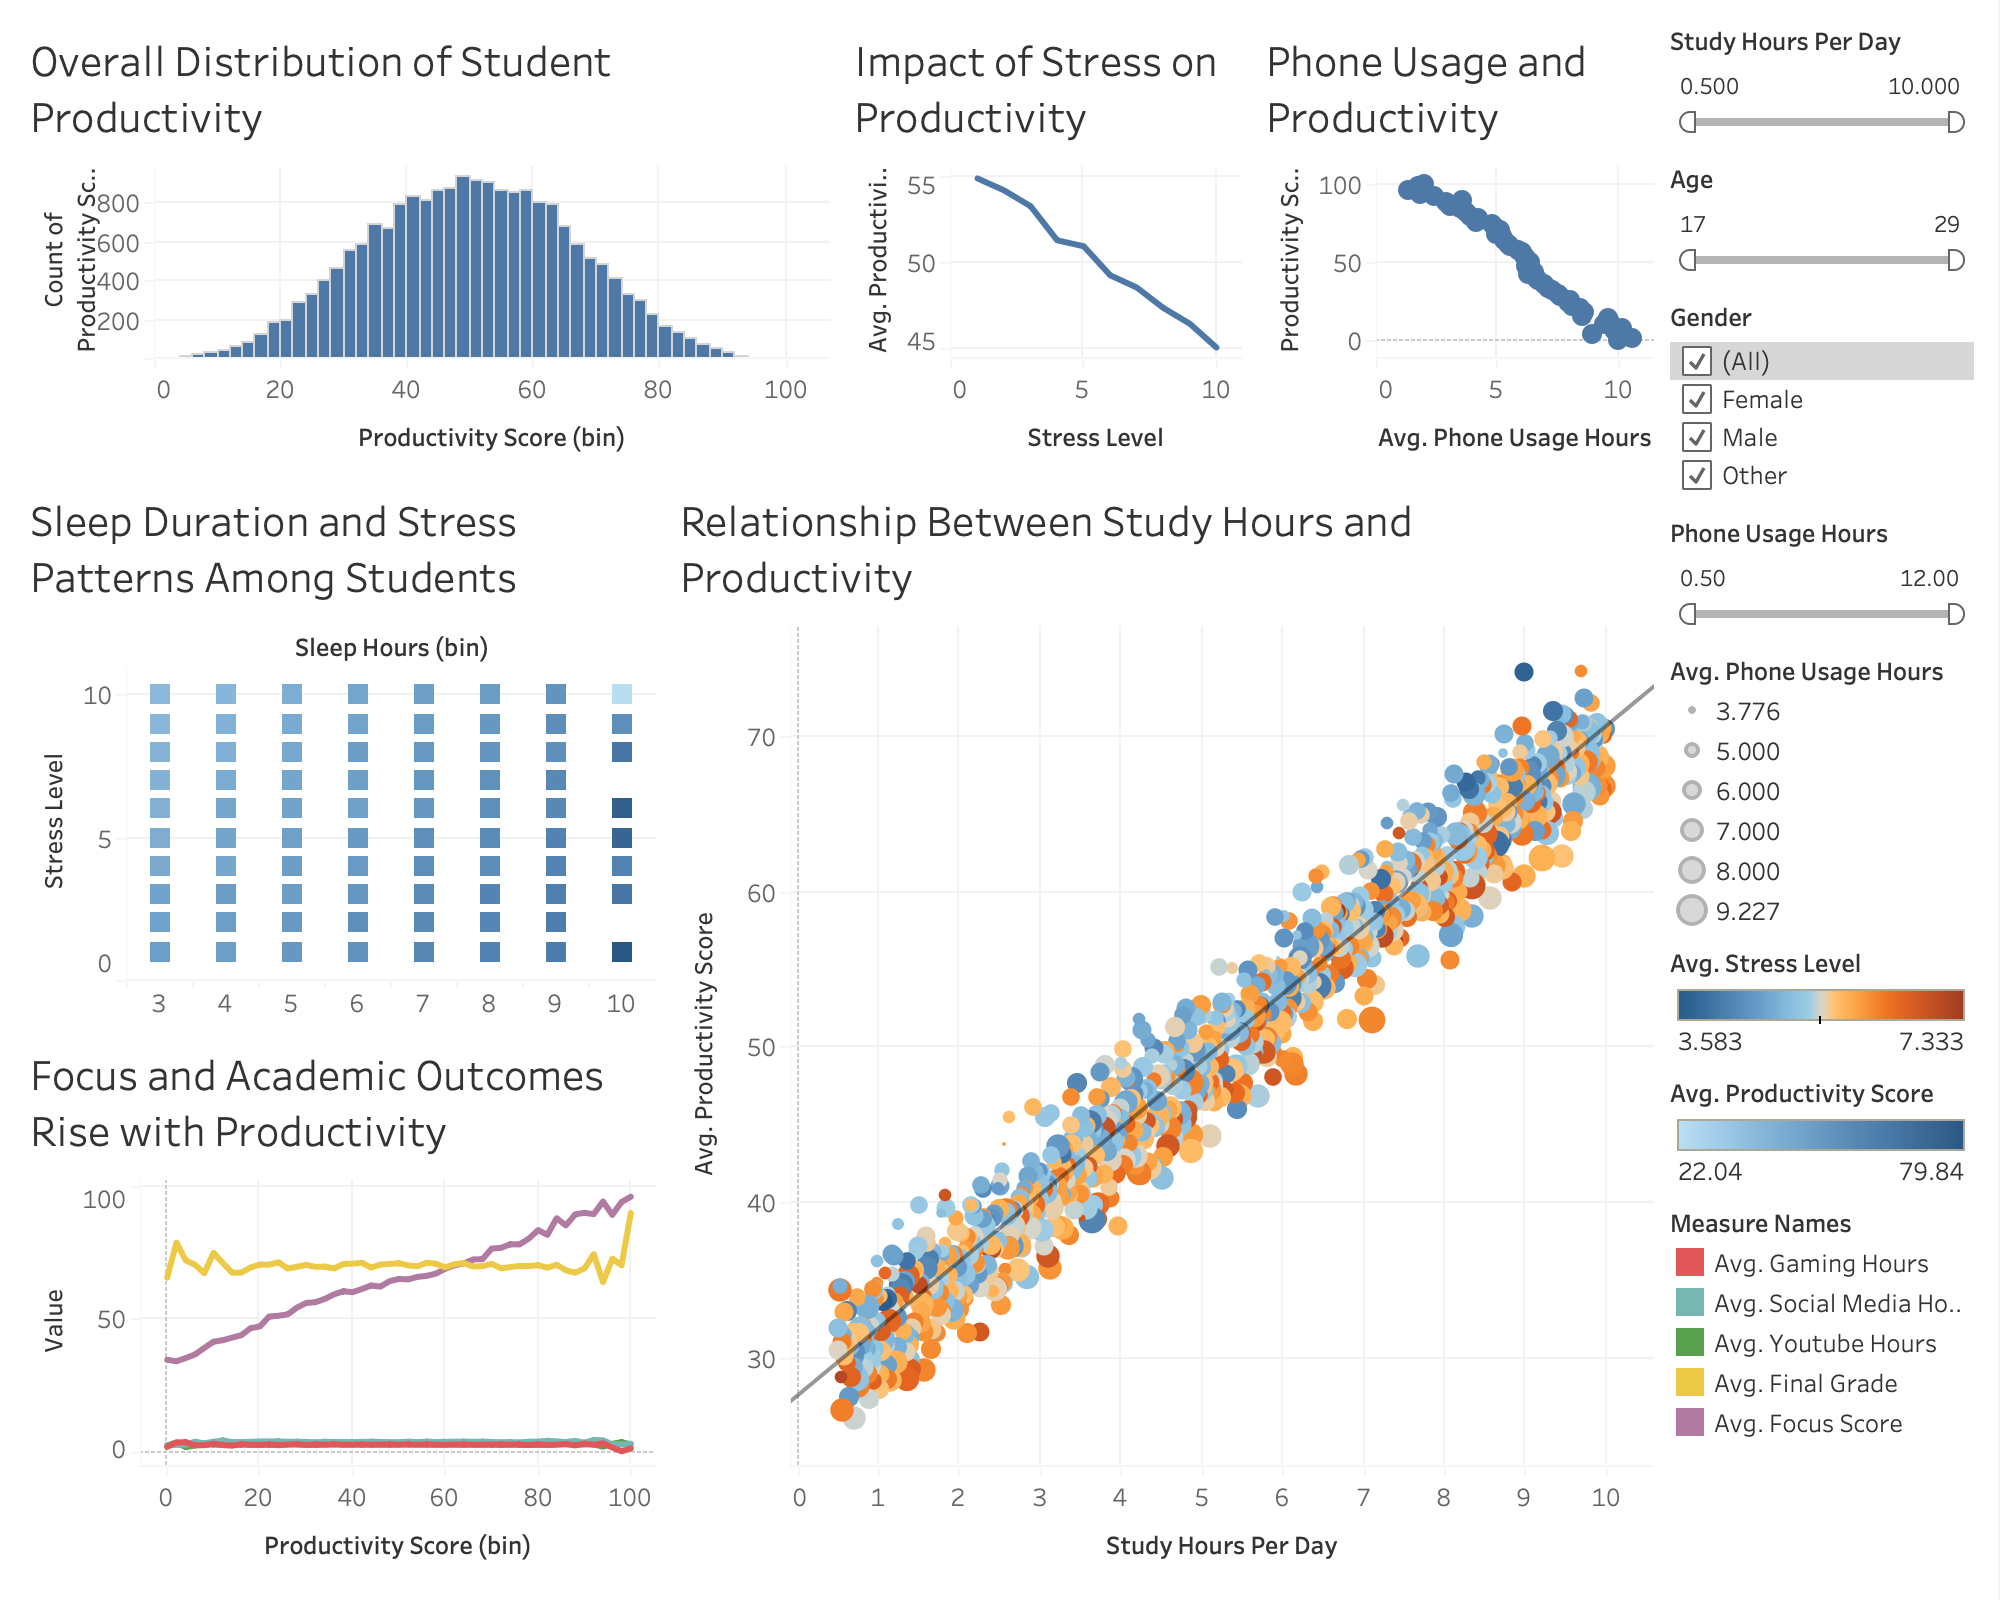

This screenshot's page, from the dashboard's own definition file:
{"tool":"tableau","page":{"name":"Dashboard 1","canvas":[1000,800],"ordinal":0},"visuals":[{"type":"worksheet","title":"Sheet 8","mark":"Automatic","rows":["productivity_score"],"cols":["Productivity Score (bin)"],"box":[8,8,412,230]},{"type":"worksheet","title":"Sheet 10","mark":"Automatic","rows":["productivity_score"],"cols":["stress_level"],"box":[420,8,206,230]},{"type":"worksheet","title":"Sheet 9","mark":"Circle","rows":["Productivity Score (bin)"],"cols":["phone_usage_hours"],"box":[626,8,206,230]},{"type":"filter","title":"Sheet 8","param":"[federated.0lv76631ulyuha18e99m30otcbjf].[none:study_hours_per_day:qk]","box":[832,8,160,69]},{"type":"filter","title":"Sheet 8","param":"[federated.0lv76631ulyuha18e99m30otcbjf].[none:age:qk]","box":[832,77,160,69]},{"type":"filter","title":"Sheet 8","param":"[federated.0lv76631ulyuha18e99m30otcbjf].[none:gender:nk]","box":[832,146,160,108]},{"type":"worksheet","title":"Sheet 12","mark":"Square","rows":["stress_level"],"cols":["Sleep Hours (bin)"],"box":[8,238,325,277]},{"type":"worksheet","title":"Sheet 11","mark":"Circle","rows":["productivity_score"],"cols":["study_hours_per_day"],"box":[333,238,499,554]},{"type":"filter","title":"Sheet 11","param":"[federated.0lv76631ulyuha18e99m30otcbjf].[none:phone_usage_hours:qk]","box":[832,254,160,69]},{"type":"legend","title":"Sheet 11","param":"[federated.0lv76631ulyuha18e99m30otcbjf].[avg:phone_usage_hours:qk]","box":[832,323,160,166]},{"type":"legend","title":"Sheet 11","param":"[federated.0lv76631ulyuha18e99m30otcbjf].[avg:stress_level:qk]","box":[832,489,160,65]},{"type":"worksheet","title":"Sheet 13","mark":"Line","cols":["Productivity Score (bin)"],"box":[8,515,325,277]},{"type":"legend","title":"Sheet 12","param":"[federated.0lv76631ulyuha18e99m30otcbjf].[avg:productivity_score:qk]","box":[832,554,160,65]},{"type":"legend","title":"Sheet 13","param":"[federated.0lv76631ulyuha18e99m30otcbjf].[:Measure Names]","box":[832,619,160,126]}]}

Visuals, with their boxes in screenshot pixels (x1, y1, x2, y2), scaled from the page's 1000x800 canvas onto the 2000x1600 screenshot:
"Sheet 8" worksheet: (left=16, top=16, right=840, bottom=476)
"Sheet 10" worksheet: (left=840, top=16, right=1252, bottom=476)
"Sheet 9" worksheet (Circle marks): (left=1252, top=16, right=1664, bottom=476)
"Sheet 8" filter: (left=1664, top=16, right=1984, bottom=154)
"Sheet 8" filter: (left=1664, top=154, right=1984, bottom=292)
"Sheet 8" filter: (left=1664, top=292, right=1984, bottom=508)
"Sheet 12" worksheet (Square marks): (left=16, top=476, right=666, bottom=1030)
"Sheet 11" worksheet (Circle marks): (left=666, top=476, right=1664, bottom=1584)
"Sheet 11" filter: (left=1664, top=508, right=1984, bottom=646)
"Sheet 11" legend: (left=1664, top=646, right=1984, bottom=978)
"Sheet 11" legend: (left=1664, top=978, right=1984, bottom=1108)
"Sheet 13" worksheet (Line marks): (left=16, top=1030, right=666, bottom=1584)
"Sheet 12" legend: (left=1664, top=1108, right=1984, bottom=1238)
"Sheet 13" legend: (left=1664, top=1238, right=1984, bottom=1490)
